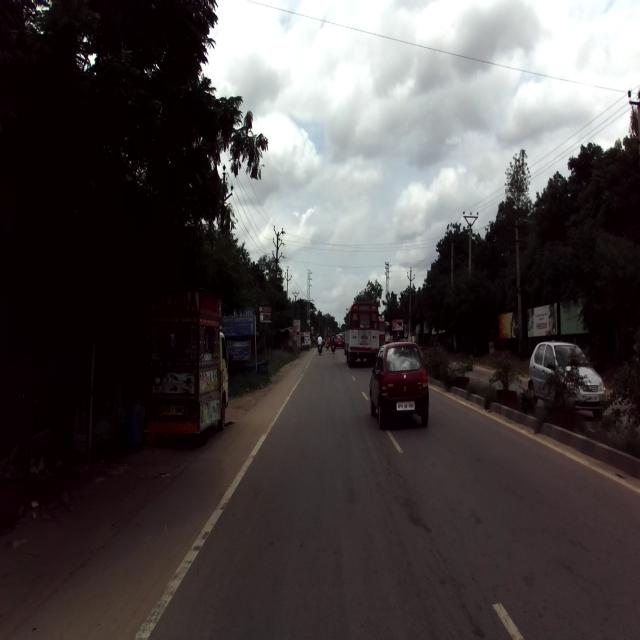Car_Maruti-Suzuki: (369, 341, 429, 428)
Car_TATA: (527, 340, 606, 418)
